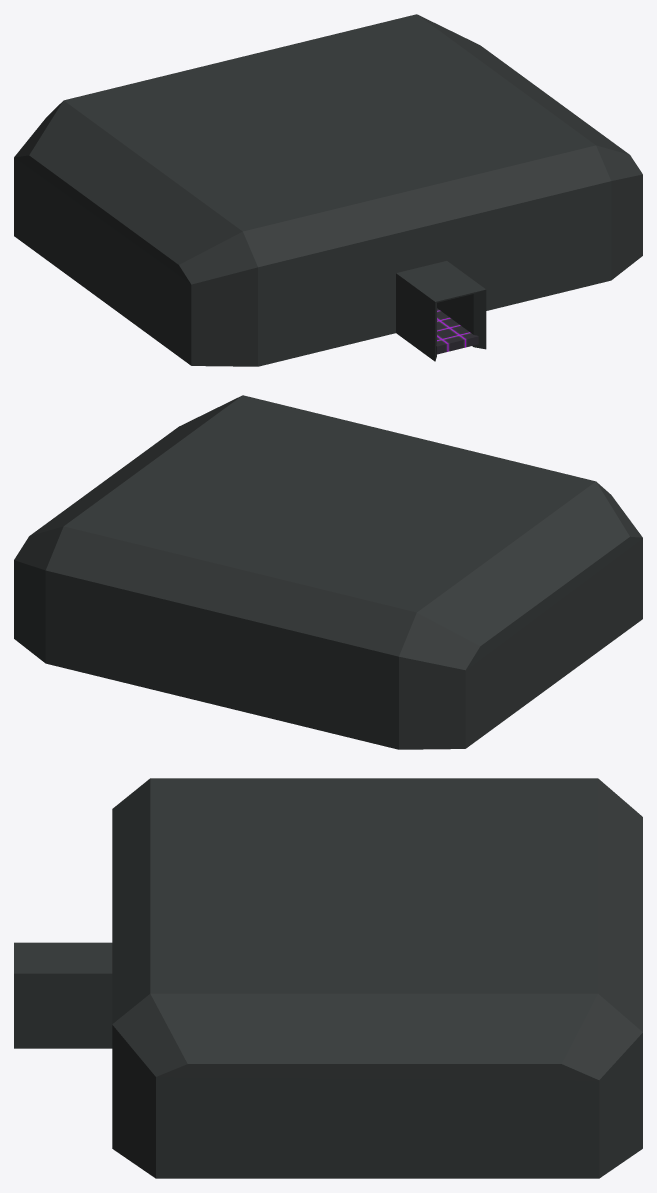
File: ArcadeLayout.fbx
The picture shows the model from 3 angles, top to bottom: view 1: azimuth 30°, elevation 25°; view 2: azimuth 150°, elevation 25°; view 3: azimuth 270°, elevation 25°; orthographic projection. The views are drawn at different scales.
Visible parts, largest first — view 1: Exterior, Floor; view 2: Exterior; view 3: Exterior.
Part boxes in pixels (x1=…): Exterior: x1=14, y1=14, x2=642, y2=366; Floor: x1=436, y1=308, x2=478, y2=354; Exterior: x1=14, y1=395, x2=642, y2=749; Exterior: x1=14, y1=778, x2=642, y2=1178.
Bounding box in the file's own units: 310 × 81.5 × 300.
14 materials, 10 textured.
